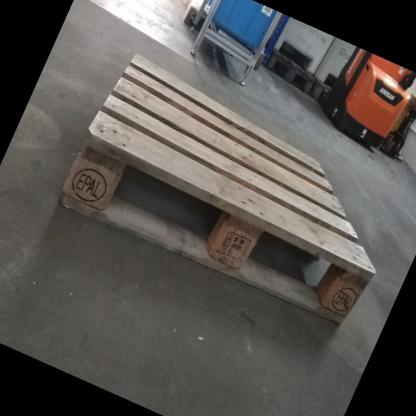BoxFace: (51, 47, 378, 333)
